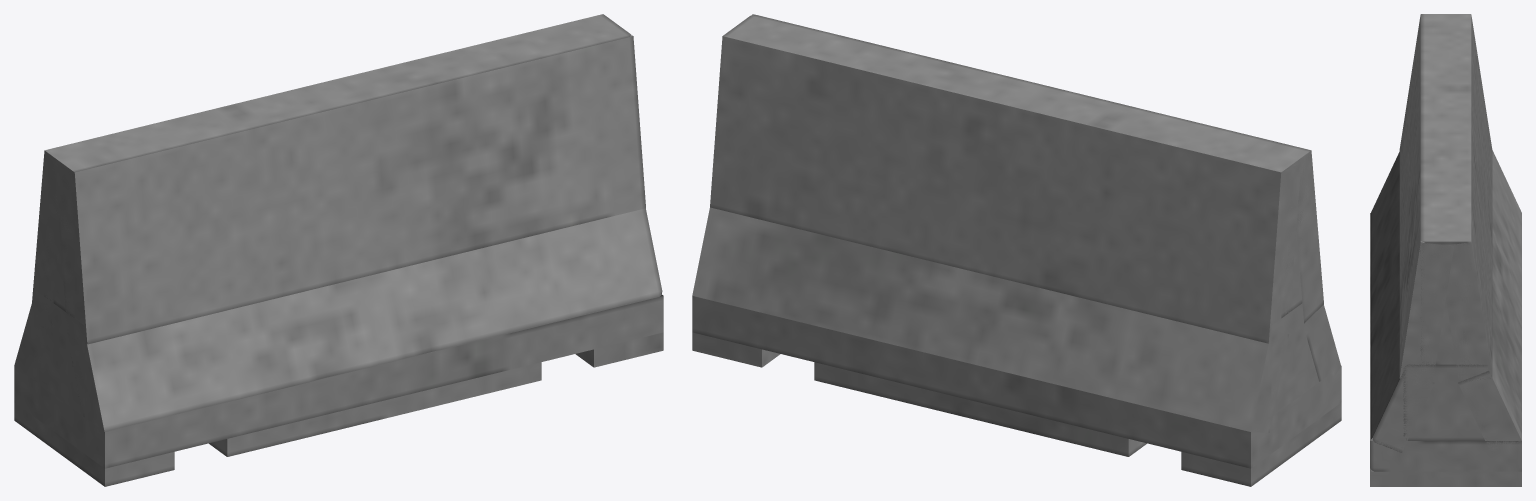
File: barrier.obj
3 renders of one model, left to right at view 1: azimuth 30°, elevation 25°; view 2: azimuth 150°, elevation 25°; view 3: azimuth 270°, elevation 25°, orthographic. The views are drawn at different scales.
Parts seen in each view (by area): view 1: qm, ql, qi, qo, qf, qk, qg, qn, qj, qh; view 2: qn, qj, qi, qo, qf, qk, qm, qg, ql, qh; view 3: qo, qm, qj, qn, ql, qk, qi, qh.
Boxes of the visible parts, box(x1,y1,x2,y2) form: qm: box(54, 35, 645, 344); ql: box(67, 208, 662, 431); qi: box(14, 294, 663, 468); qo: box(44, 14, 630, 317); qf: box(209, 362, 541, 456); qk: box(34, 289, 84, 416); qg: box(14, 402, 174, 486); qn: box(32, 150, 63, 323); qj: box(14, 296, 52, 381); qh: box(575, 332, 663, 367); qn: box(710, 36, 1301, 343); qj: box(692, 207, 1288, 432); qi: box(692, 296, 1341, 468); qo: box(723, 15, 1311, 318); qf: box(814, 362, 1146, 456); qk: box(1271, 303, 1319, 415); qm: box(751, 14, 1323, 323); qg: box(1181, 402, 1341, 486); ql: box(1303, 304, 1340, 381); qh: box(692, 332, 780, 367); qo: box(1420, 14, 1471, 364); qm: box(1399, 15, 1453, 380); qj: box(1458, 150, 1521, 452); qn: box(1438, 15, 1492, 381); ql: box(1371, 152, 1434, 452); qk: box(1403, 364, 1488, 440); qi: box(1370, 213, 1521, 471); qh: box(1370, 468, 1521, 486).
Bounding box in the file's own units: 2 × 1 × 0.5625.
Materials: 1 (1 with a texture image).
